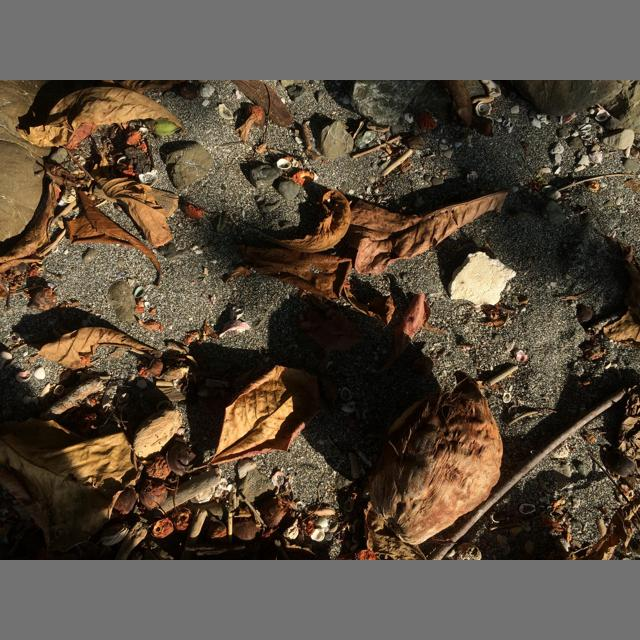litter: (448, 251, 516, 311)
